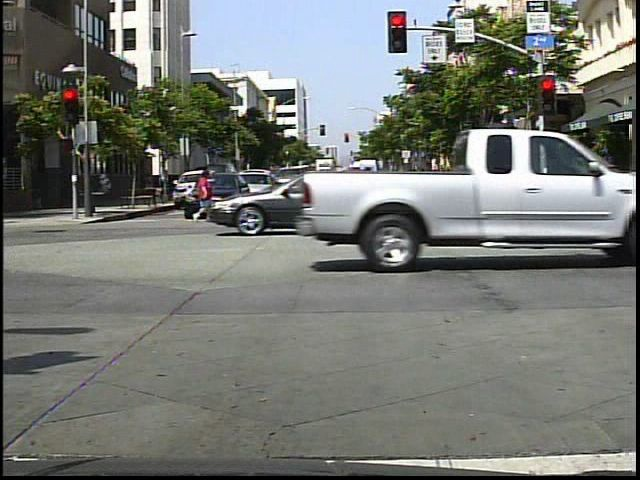person: (359, 163, 393, 233), (409, 162, 440, 225), (185, 166, 218, 223), (569, 157, 592, 207)
